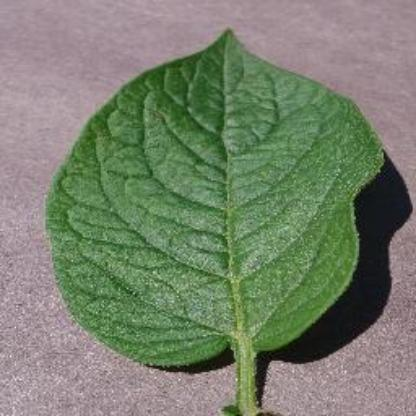Healthy-plant: (48, 29, 386, 415)
